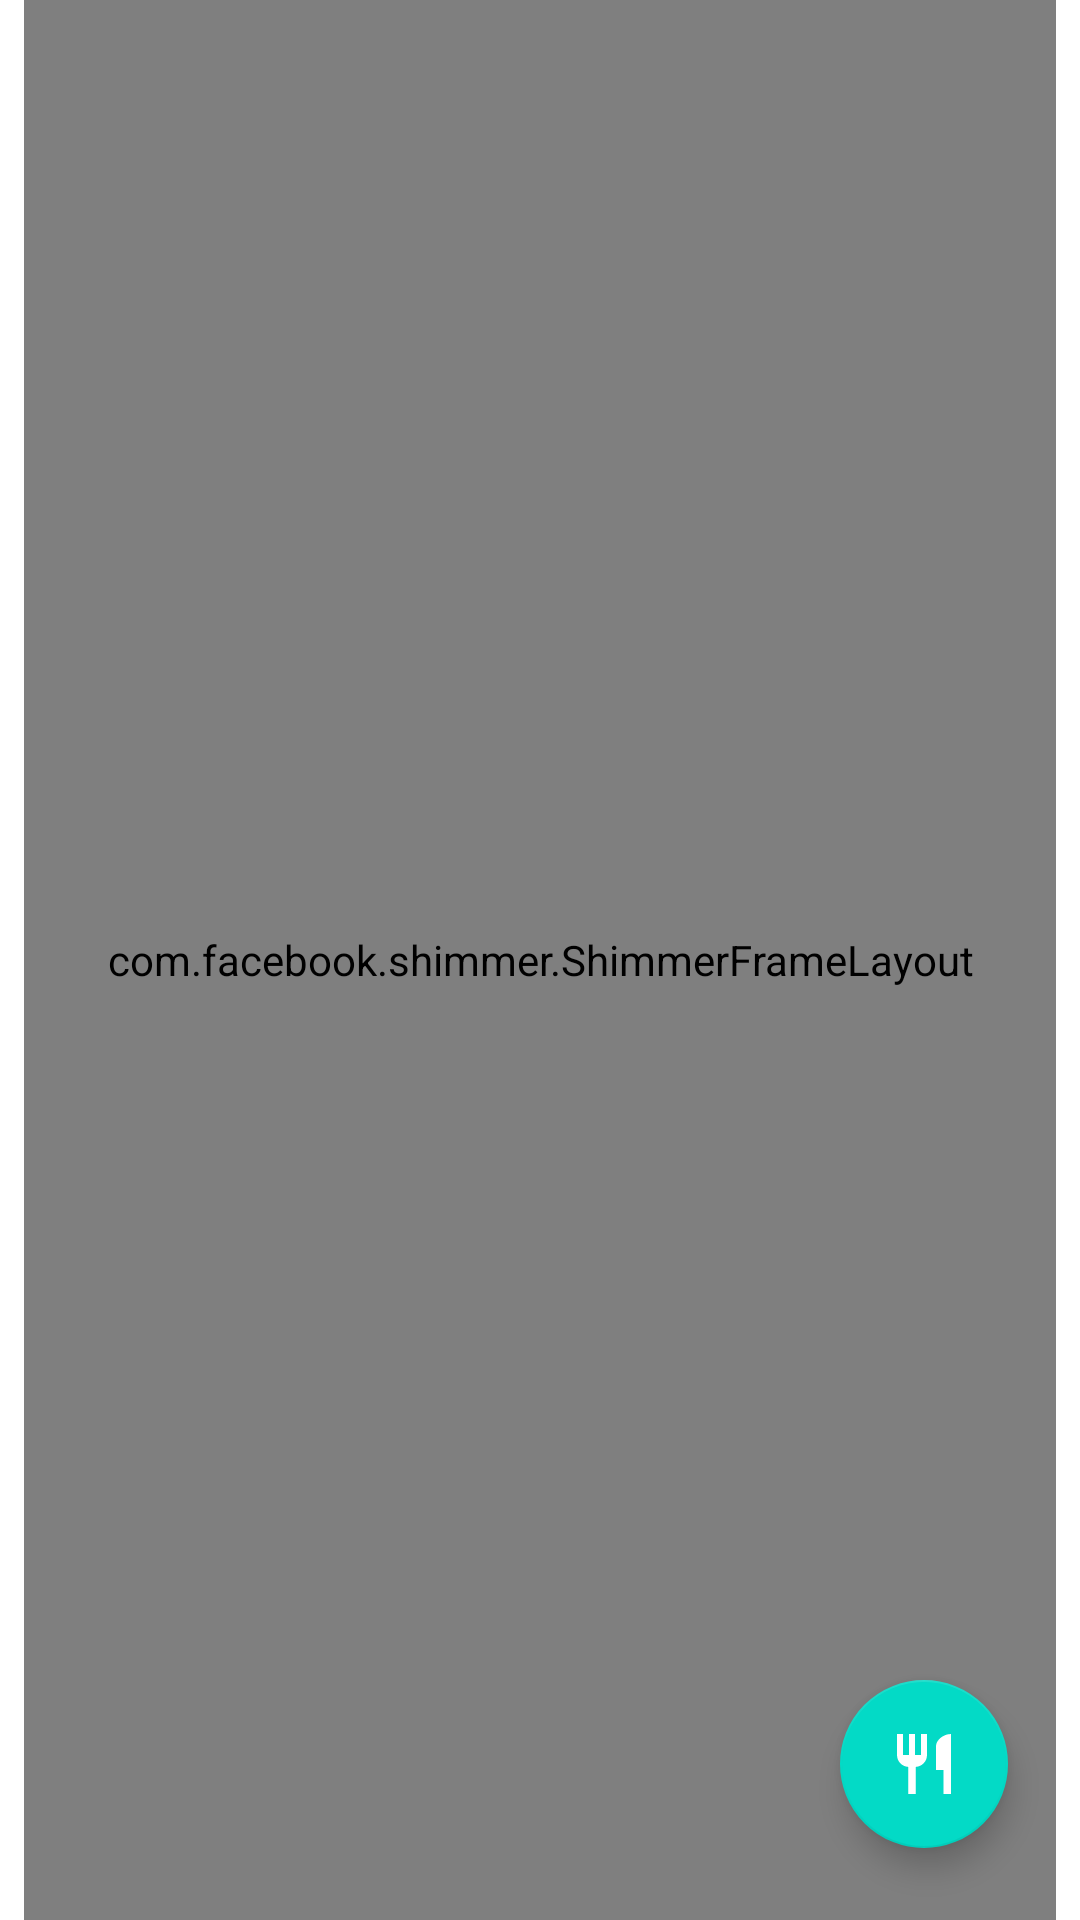

Icon click points for this 1080px x 1920px phone screenshot, format [x,y]:
restaurant: [924,1764]
